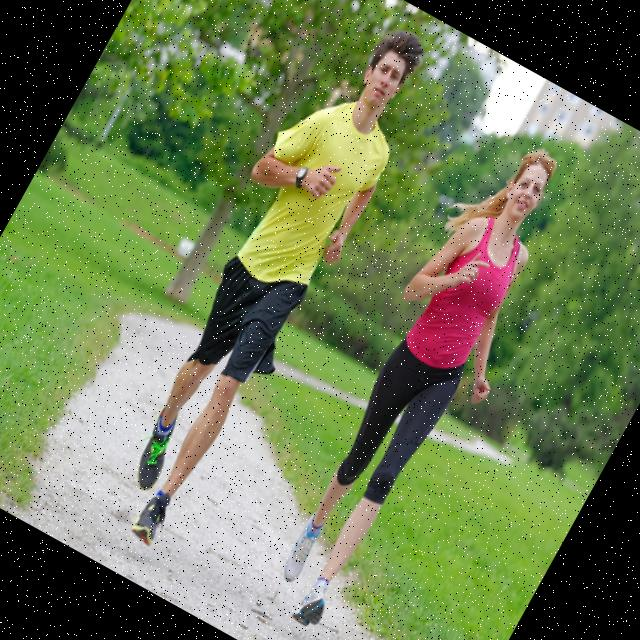Person: (70, 0, 450, 558), (238, 126, 603, 640)
